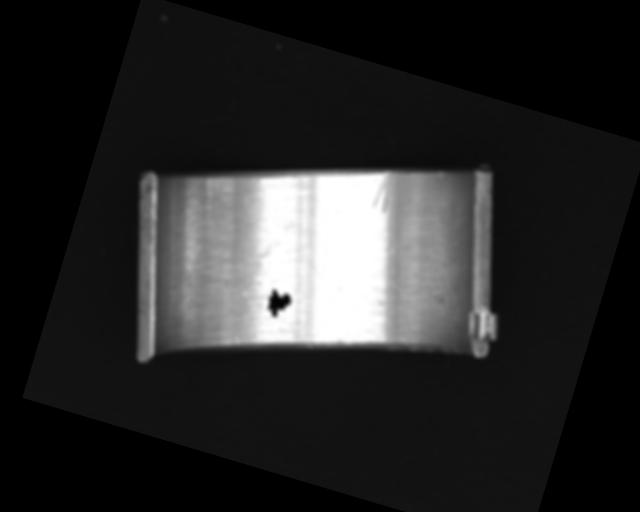blot: (261, 286, 294, 321)
nick: (370, 169, 399, 214), (436, 170, 446, 185)
